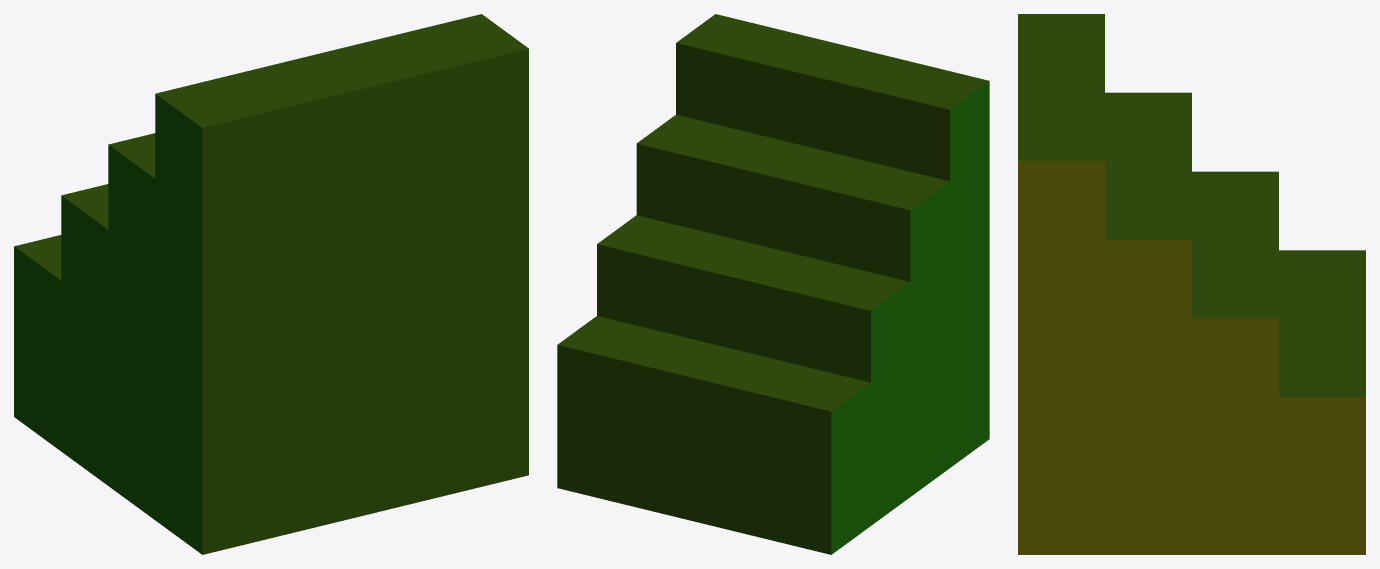
Rendered from block_12.fbx.
The picture shows the model from 3 angles, left to right: view 1: azimuth 30°, elevation 25°; view 2: azimuth 150°, elevation 25°; view 3: azimuth 270°, elevation 25°; orthographic projection. The views are drawn at different scales.
Visible parts, largest first — view 1: Box.003; view 2: Box.003; view 3: Box.003.
Boxes of the visible parts, x1,y1,x2,y2 form: Box.003: [14, 14, 528, 554]; Box.003: [557, 14, 989, 554]; Box.003: [1018, 14, 1365, 554].
Bounding box in the file's own units: 400 × 500 × 400.
